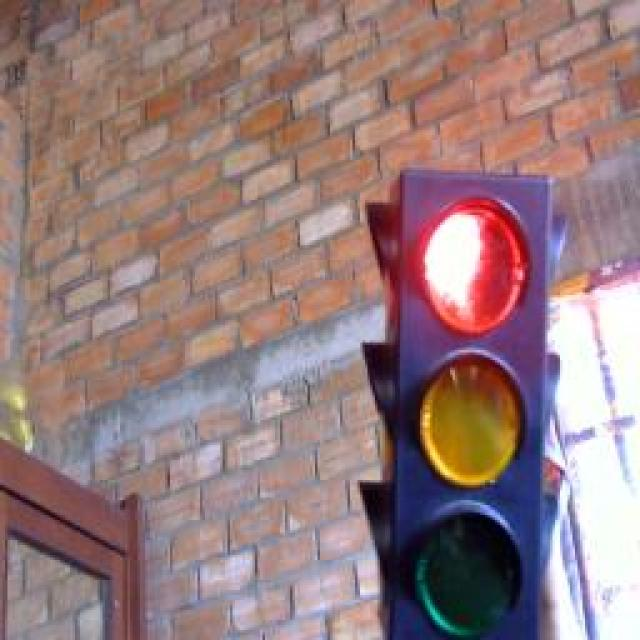-: (410, 181, 537, 349)
